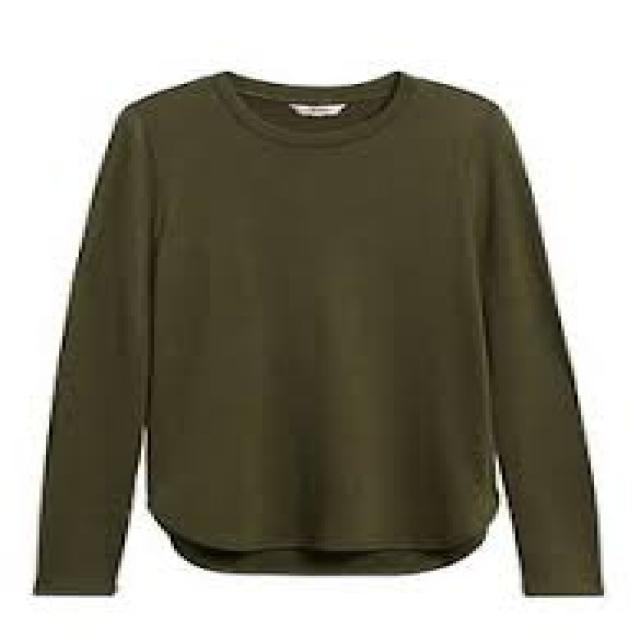plain: (31, 70, 604, 596)
